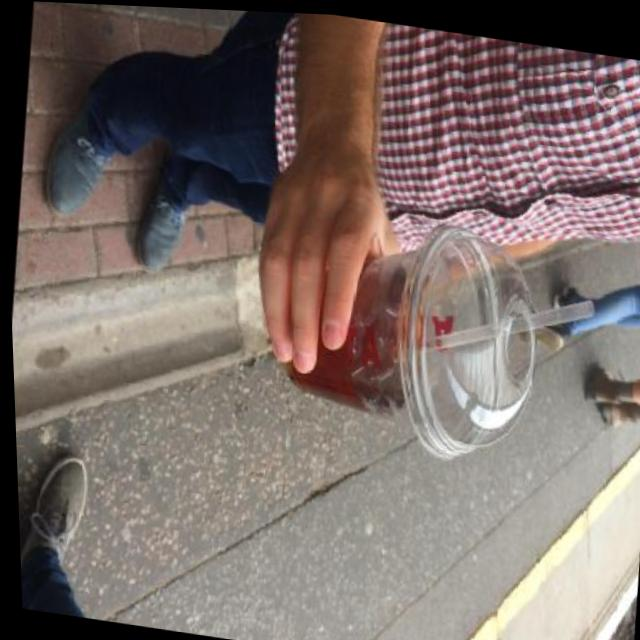plastic: (267, 197, 606, 488)
